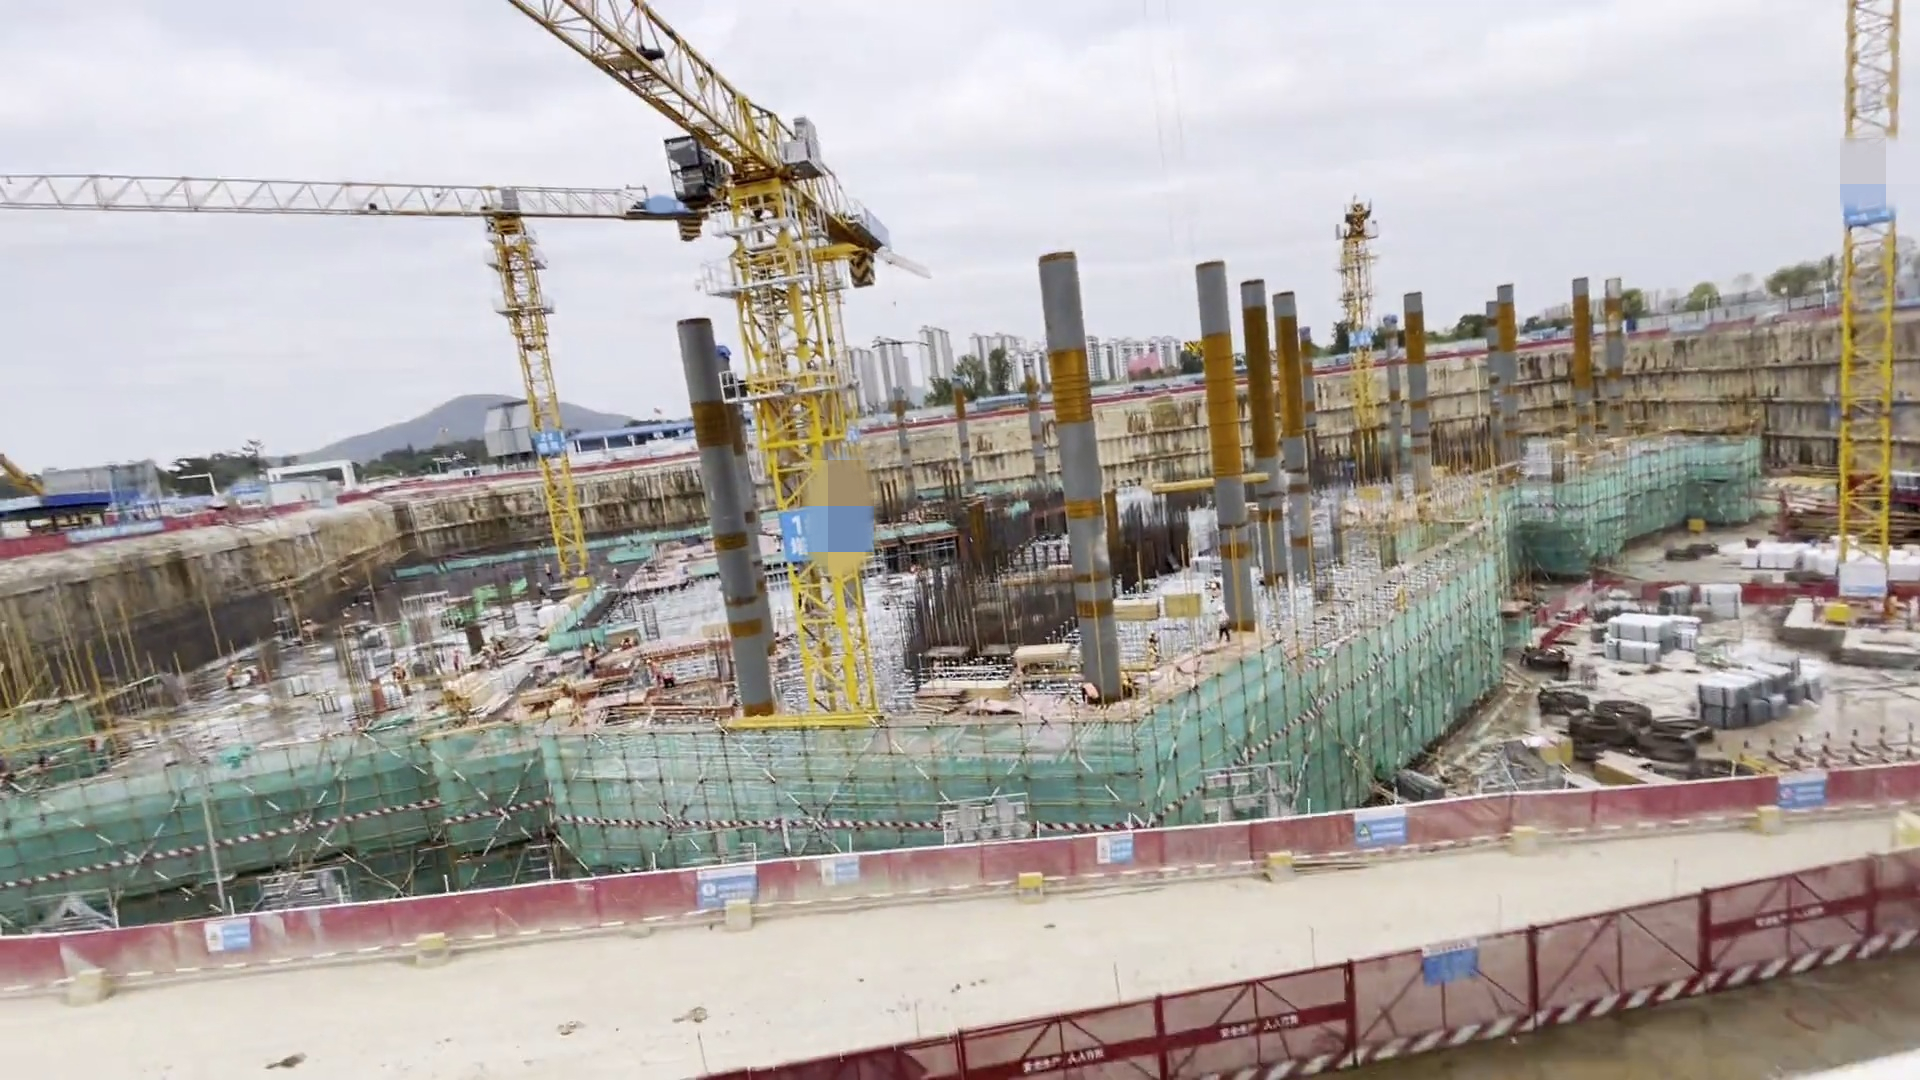ebox: (1816, 582, 1851, 644)
fence: (12, 833, 1904, 1010)
scaffold: (1601, 593, 1811, 738)
slogan: (1403, 928, 1495, 993), (1087, 823, 1149, 874), (1774, 771, 1837, 818), (196, 911, 257, 957), (694, 874, 771, 910), (1354, 803, 1416, 843), (818, 856, 865, 895)
